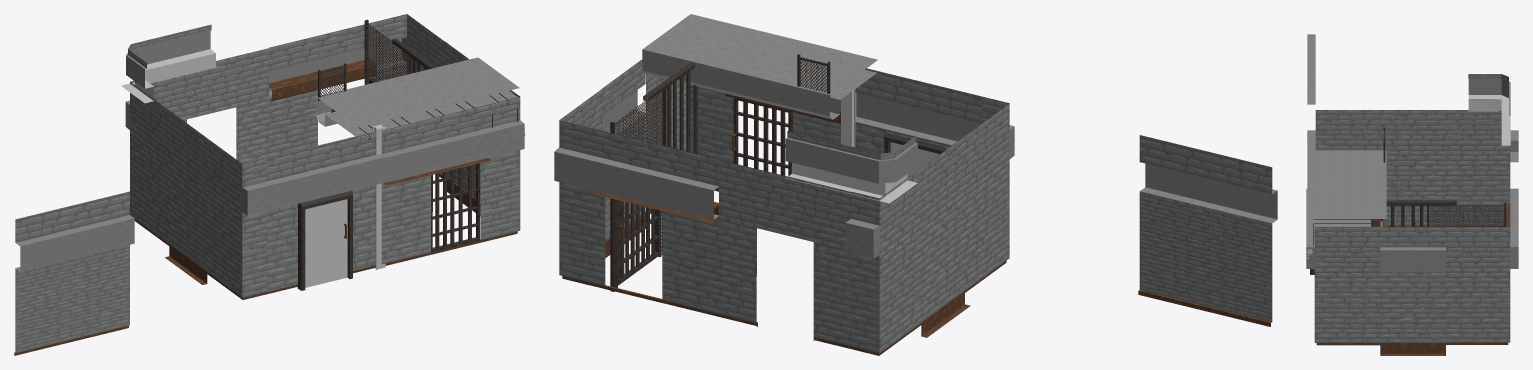
File: prison.fbx
The picture shows the model from 3 angles, left to right: view 1: azimuth 30°, elevation 25°; view 2: azimuth 150°, elevation 25°; view 3: azimuth 270°, elevation 25°; orthographic projection. The views are drawn at different scales.
Parts seen in each view (by area): view 1: L_falt_wall1, L_falt_wall, roof:roof:roof1:L_falt_wall, concrete_platform, Cell_wall_corner_Bottom_L, R_cell_Wall, roof:roof:roof1:L_falt_wall1, flat_wall_A, Cell_wall_corner_top_L, Cell_wall_corner_Bottom_R, door1, Cell_wall_corner_top_R (+8 smaller); view 2: L_falt_wall1, R_cell_Wall, roof:roof:roof1:L_falt_wall1, concrete_platform, Cell_wall_corner_top_L, flat_wall_A, Cell_wall_corner_Bottom_L, roof:roof:roof1:L_falt_wall, Cell_wall_corner_top_R, roof:roof:roof1:rooof_coner, Cell_wall_corner_Bottom_R, flat_wall_A1 (+8 smaller); view 3: flat_wall_A1, Cell_wall_corner_Bottom_R, Cell_wall_corner_top_R, Cell_wall_corner_top_L, flat_wall_A, concrete_platform, Cell_wall_corner_Bottom_L, roof:roof:roof1:rooof_coner, prisonDoor:main_entrence, L_falt_wall1, R_cell_Wall, L_falt_wall (+4 smaller).
Part boxes in pixels (x1,y1,x2,y2): L_falt_wall1: (14, 191, 134, 355); L_falt_wall: (381, 103, 500, 265); roof:roof:roof1:L_falt_wall: (265, 131, 386, 294); concrete_platform: (316, 57, 519, 140); Cell_wall_corner_Bottom_L: (204, 136, 271, 299); R_cell_Wall: (268, 20, 383, 157); roof:roof:roof1:L_falt_wall1: (154, 48, 268, 163); flat_wall_A: (165, 109, 207, 284); Cell_wall_corner_top_L: (125, 80, 169, 245); Cell_wall_corner_Bottom_R: (494, 90, 524, 238); door1: (305, 199, 347, 287); Cell_wall_corner_top_R: (378, 14, 444, 178); L_falt_wall1: (1138, 135, 1277, 326); R_cell_Wall: (582, 127, 720, 316); roof:roof:roof1:L_falt_wall1: (719, 160, 852, 349); concrete_platform: (642, 14, 877, 119); Cell_wall_corner_top_L: (845, 166, 923, 355); flat_wall_A: (921, 135, 970, 337); Cell_wall_corner_Bottom_L: (964, 96, 1014, 293); roof:roof:roof1:L_falt_wall: (855, 68, 981, 153); Cell_wall_corner_top_R: (554, 88, 602, 284); roof:roof:roof1:rooof_coner: (840, 136, 917, 203); Cell_wall_corner_Bottom_R: (646, 74, 717, 213); flat_wall_A1: (602, 59, 645, 257); flat_wall_A1: (1380, 227, 1445, 355); Cell_wall_corner_Bottom_R: (1306, 227, 1380, 345); Cell_wall_corner_top_R: (1446, 227, 1518, 344); Cell_wall_corner_top_L: (1445, 110, 1518, 226); flat_wall_A: (1379, 110, 1444, 226); concrete_platform: (1314, 150, 1386, 227); Cell_wall_corner_Bottom_L: (1307, 110, 1379, 150); roof:roof:roof1:rooof_coner: (1468, 74, 1510, 113); prisonDoor:main_entrence: (1427, 202, 1506, 226); L_falt_wall1: (1307, 34, 1315, 104); R_cell_Wall: (1506, 188, 1518, 236); L_falt_wall: (1306, 188, 1314, 236).
Bounding box in the file's own units: 31.16 × 10.8 × 12.95.
